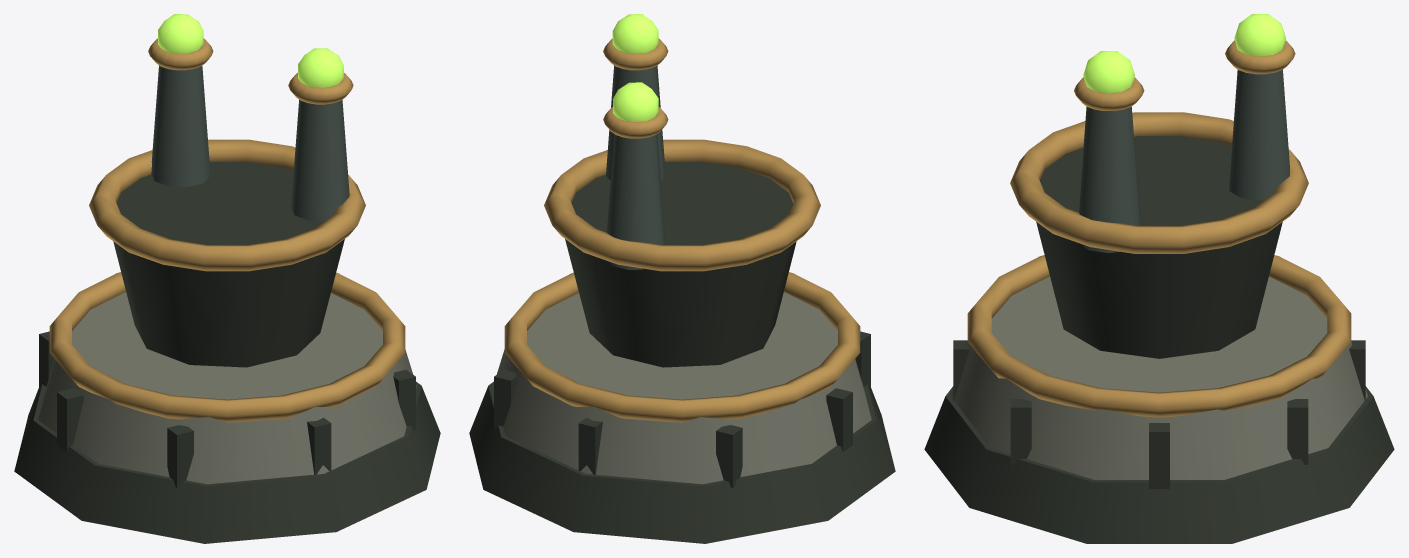
The model's file is tower_poison_poisonSpore.glb.
3 views of the same model, side by side, from view 1: azimuth 30°, elevation 25°; view 2: azimuth 150°, elevation 25°; view 3: azimuth 270°, elevation 25° (orthographic). The views are drawn at different scales.
Parts seen in each view (by area): view 1: stone_1, vessel_11, foot_0, rim_2, vessel_lip_13, chimney_14, chimney_17, spore_19, spore_16, mortar_6, mortar_7, vent_15 (+4 smaller); view 2: stone_1, vessel_11, foot_0, vessel_lip_13, rim_2, chimney_14, spore_19, spore_16, chimney_17, mortar_8, mortar_7, vent_18 (+4 smaller); view 3: stone_1, vessel_11, foot_0, rim_2, vessel_lip_13, chimney_14, chimney_17, spore_19, spore_16, mortar_3, vent_15, vent_18 (+4 smaller).
Boxes of the visible parts, <box> form: stone_1: <box>38,292,416,484</box>; vessel_11: <box>113,162,344,367</box>; foot_0: <box>14,381,440,543</box>; rim_2: <box>49,272,405,422</box>; vessel_lip_13: <box>89,139,365,271</box>; chimney_14: <box>151,65,210,187</box>; chimney_17: <box>291,99,349,221</box>; spore_19: <box>298,48,343,87</box>; spore_16: <box>158,14,203,53</box>; mortar_6: <box>167,425,193,487</box>; mortar_7: <box>57,388,83,451</box>; vent_15: <box>148,38,213,70</box>; stone_1: <box>493,292,871,484</box>; vessel_11: <box>565,162,796,367</box>; foot_0: <box>469,381,895,543</box>; vessel_lip_13: <box>544,139,820,271</box>; rim_2: <box>504,272,860,422</box>; chimney_14: <box>606,134,665,269</box>; spore_19: <box>612,14,658,53</box>; spore_16: <box>613,82,658,121</box>; chimney_17: <box>606,65,665,181</box>; mortar_8: <box>716,425,742,487</box>; mortar_7: <box>826,388,852,451</box>; vent_18: <box>603,38,668,70</box>; stone_1: <box>951,276,1367,479</box>; vessel_11: <box>1036,136,1282,358</box>; foot_0: <box>924,386,1394,543</box>; rim_2: <box>967,255,1351,417</box>; vessel_lip_13: <box>1010,112,1308,253</box>; chimney_14: <box>1229,69,1289,200</box>; chimney_17: <box>1078,106,1139,253</box>; spore_19: <box>1083,51,1134,93</box>; spore_16: <box>1234,14,1286,56</box>; mortar_3: <box>1149,423,1169,488</box>; vent_15: <box>1225,40,1295,74</box>; vent_18: <box>1074,77,1144,110</box>.
Bounding box in the file's own units: 0.5326 × 0.571 × 0.56.
